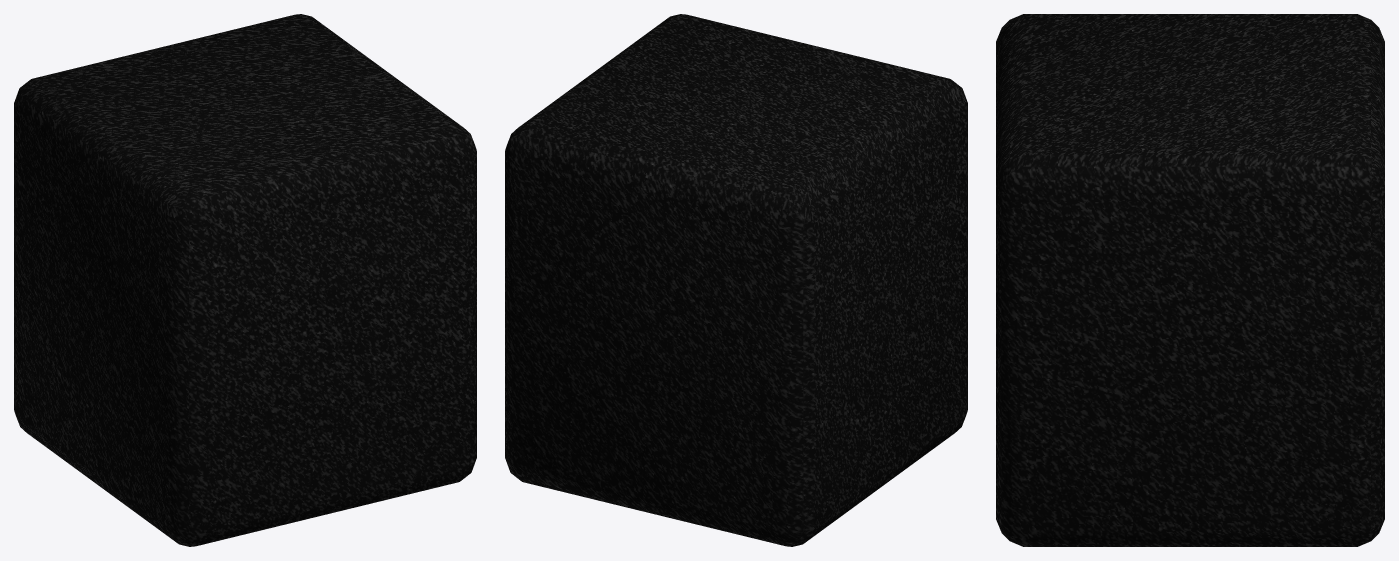
File: lakritzblock_flach.fbx
3 renders of one model, left to right at view 1: azimuth 30°, elevation 25°; view 2: azimuth 150°, elevation 25°; view 3: azimuth 270°, elevation 25°, orthographic. The views are drawn at different scales.
Parts seen in each view (by area): view 1: Cube; view 2: Cube; view 3: Cube.
Boxes of the visible parts, left/top/right/bottom form: Cube: left=14, top=14, right=476, bottom=546; Cube: left=505, top=14, right=967, bottom=546; Cube: left=996, top=14, right=1384, bottom=546.
Size of the model in its own units: 1.8 by 2 by 1.8.
Materials: 1 (1 with a texture image).
